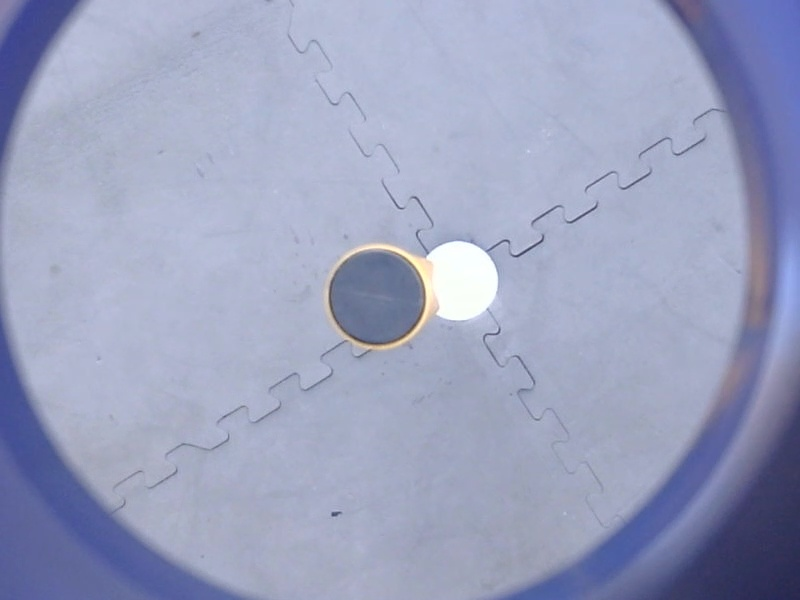tip: (320, 239, 435, 357)
